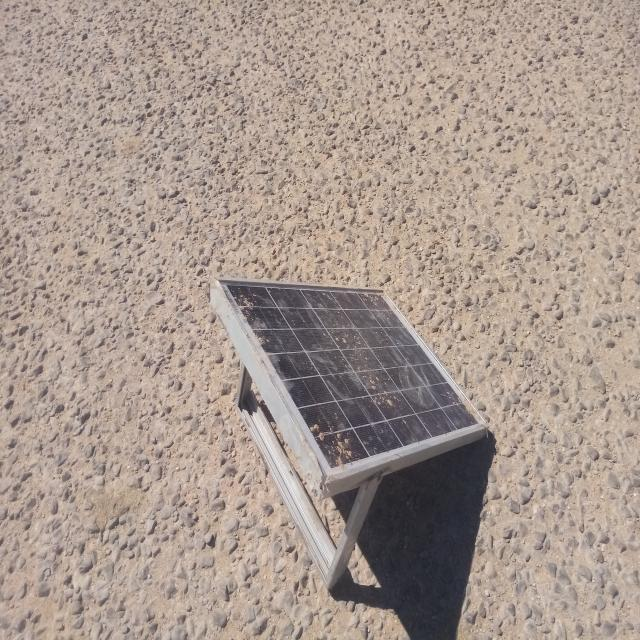faulty: (213, 278, 488, 483)
